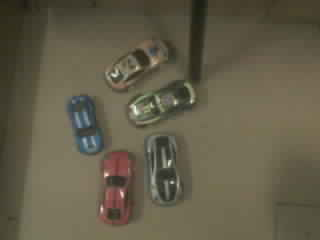Car: (104, 40, 169, 91), (125, 80, 195, 126), (145, 134, 182, 204), (99, 150, 133, 223), (67, 94, 103, 153)
